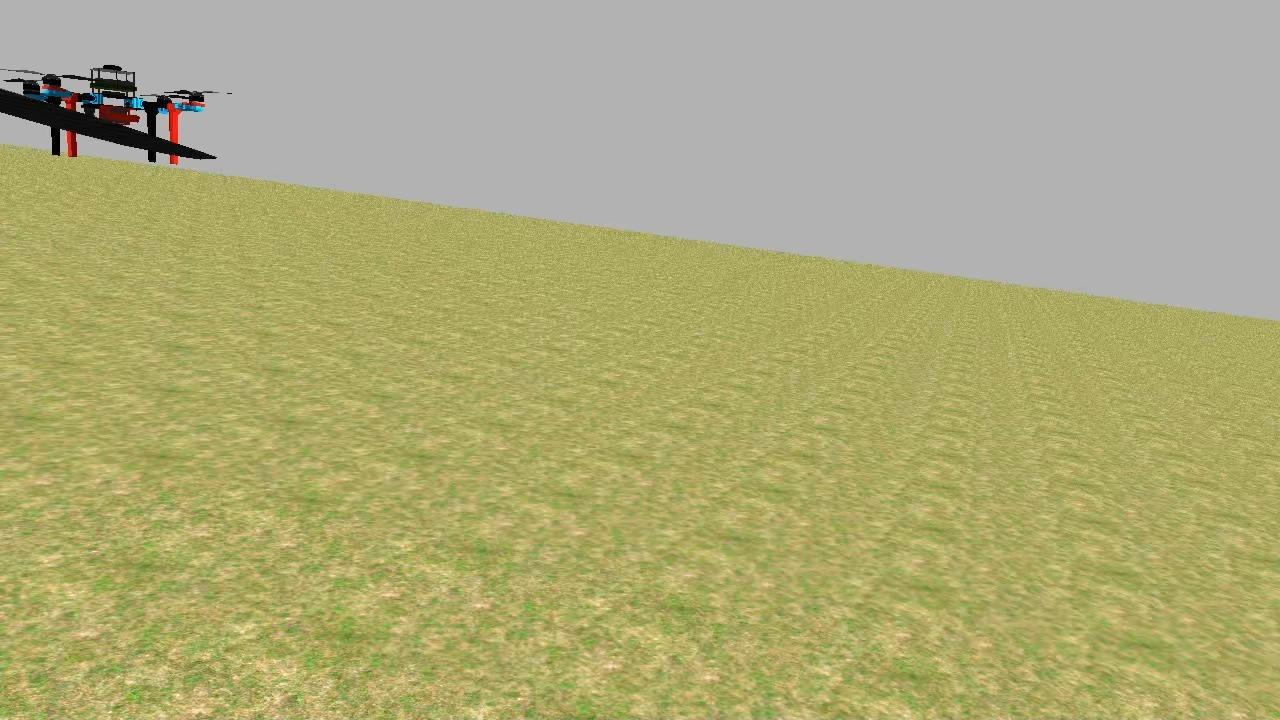UAV: (8, 54, 216, 168)
